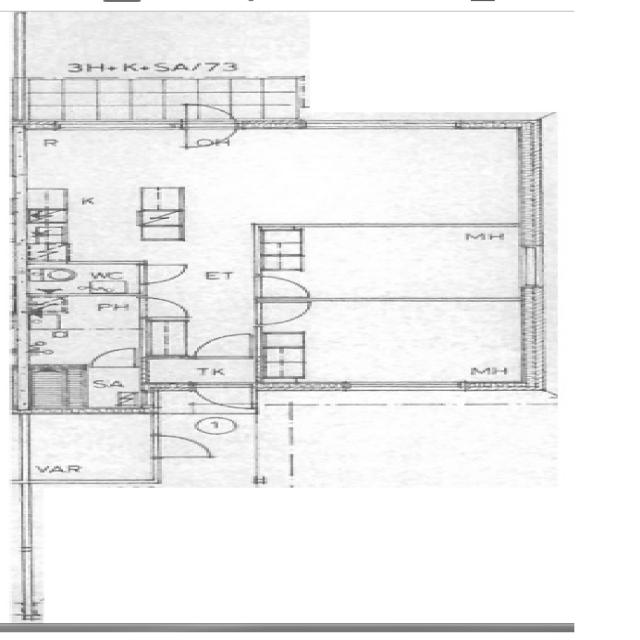door: (171, 102, 245, 152), (146, 433, 223, 459), (186, 381, 255, 409), (192, 332, 256, 359), (254, 273, 316, 300), (253, 300, 314, 325), (137, 296, 190, 320), (86, 346, 142, 368), (136, 264, 188, 284)
window: (294, 116, 472, 134), (339, 378, 467, 396), (511, 240, 553, 292), (10, 412, 40, 482), (6, 11, 35, 80), (38, 120, 182, 133)
zone: (20, 126, 537, 255), (258, 298, 532, 388), (21, 411, 157, 484), (19, 295, 149, 368), (17, 366, 146, 411), (18, 264, 144, 294)
